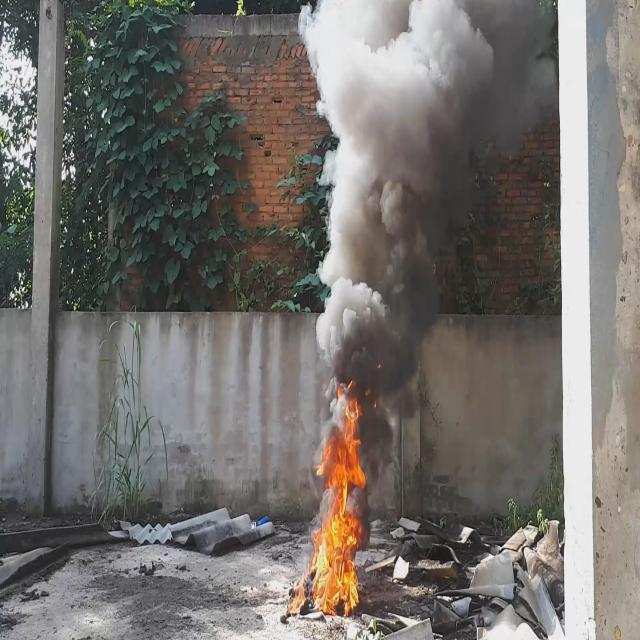Fire: (288, 398, 374, 626)
Smoke: (297, 0, 556, 428)
